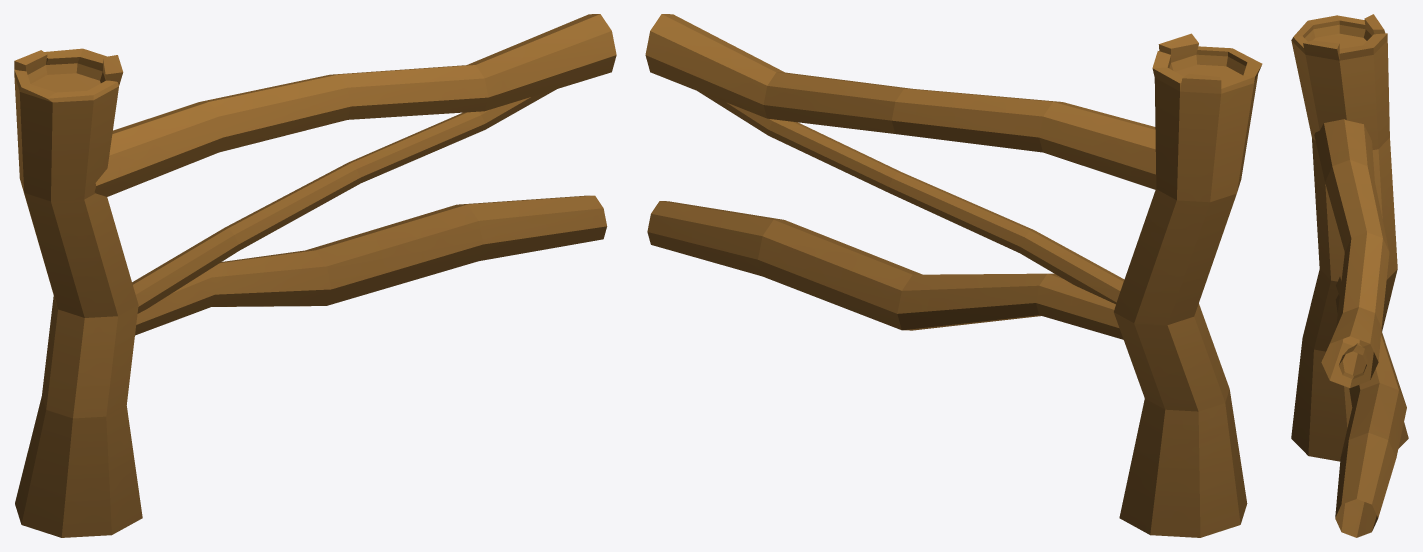
File: Fence003.fbx
3 views of the same model, side by side, from view 1: azimuth 30°, elevation 25°; view 2: azimuth 150°, elevation 25°; view 3: azimuth 270°, elevation 25° (orthographic). The views are drawn at different scales.
Parts seen in each view (by area): view 1: Cylinder.021; view 2: Cylinder.021; view 3: Cylinder.021.
Part boxes in pixels (box(x1,y1,x2,y2)): Cylinder.021: box(14, 14, 616, 537); Cylinder.021: box(645, 14, 1262, 537); Cylinder.021: box(1291, 14, 1408, 537).
Bounding box in the file's own units: 289 × 214 × 56.55.
